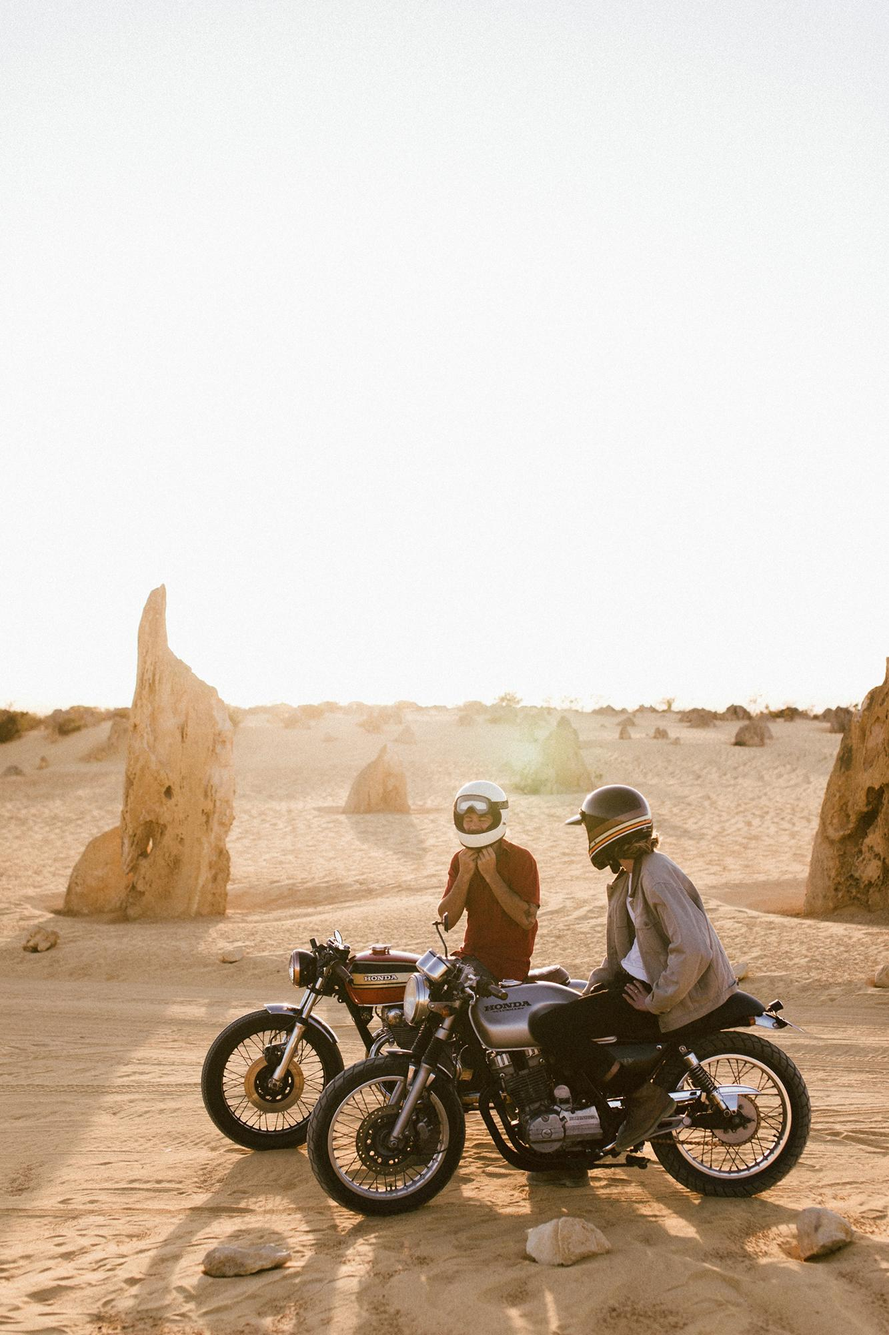helmet: (564, 783, 654, 875), (452, 779, 510, 851)
